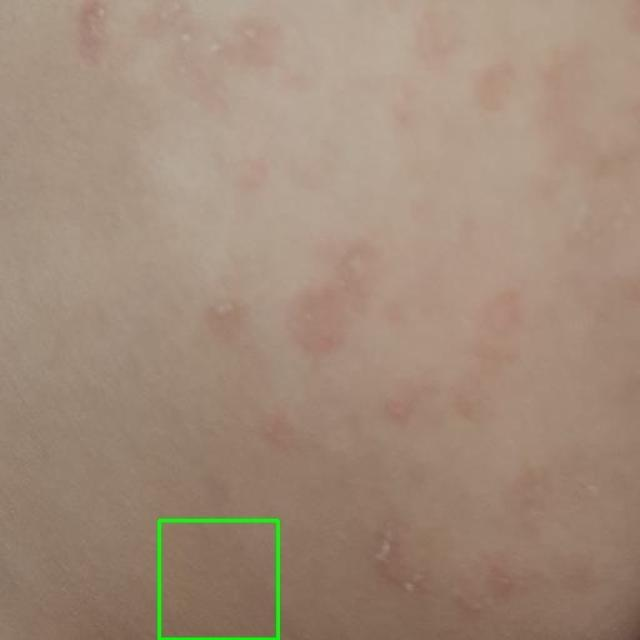Tinea Corporis: (159, 520, 278, 639)
